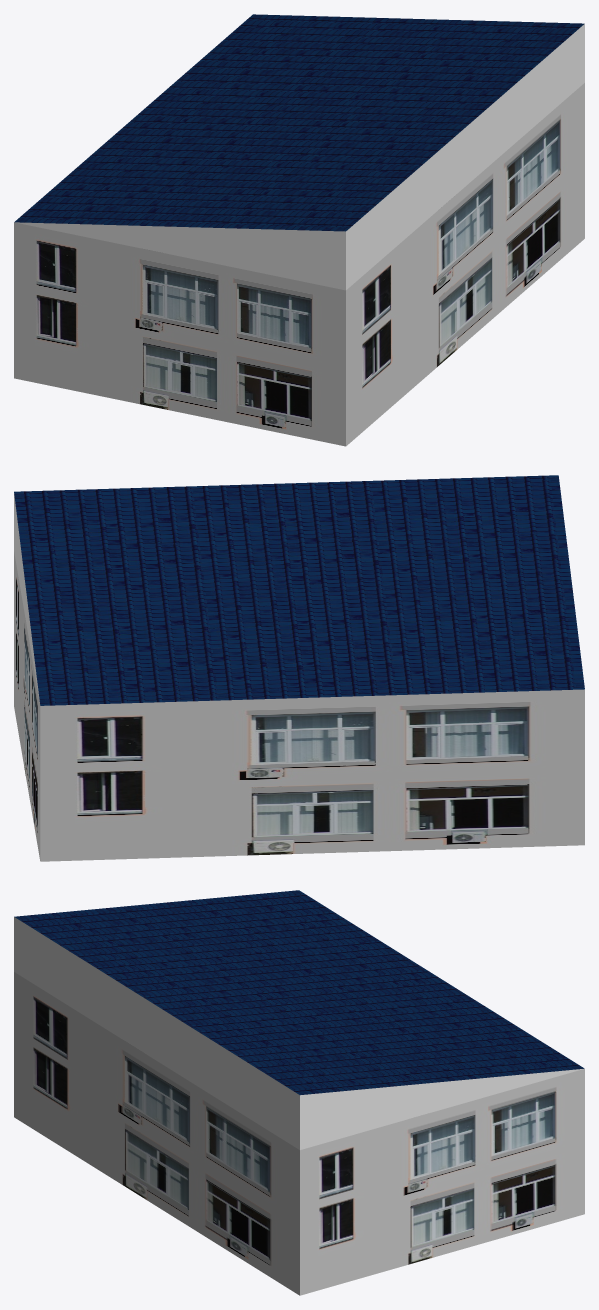
3 renders of one model, top to bottom at view 1: azimuth 30°, elevation 25°; view 2: azimuth 150°, elevation 25°; view 3: azimuth 270°, elevation 25°, orthographic. The views are drawn at different scales.
Visible parts, largest first — view 1: CityEngineMaterial_9_m, CityEngineMaterial_6_m, CityEngineMaterial_3_m; view 2: CityEngineMaterial_6_m, CityEngineMaterial_9_m, CityEngineMaterial_3_m; view 3: CityEngineMaterial_9_m, CityEngineMaterial_6_m, CityEngineMaterial_3_m.
Part boxes in pixels (x1,y1,x2,y2): CityEngineMaterial_9_m: [14, 83, 584, 446]; CityEngineMaterial_6_m: [14, 14, 584, 231]; CityEngineMaterial_3_m: [15, 24, 584, 290]; CityEngineMaterial_6_m: [14, 475, 584, 705]; CityEngineMaterial_9_m: [14, 552, 584, 861]; CityEngineMaterial_3_m: [14, 493, 39, 702]; CityEngineMaterial_9_m: [14, 972, 584, 1295]; CityEngineMaterial_6_m: [14, 890, 584, 1095]; CityEngineMaterial_3_m: [14, 917, 584, 1149].
Bounding box in the file's own units: 36.78 × 13.23 × 34.13.
